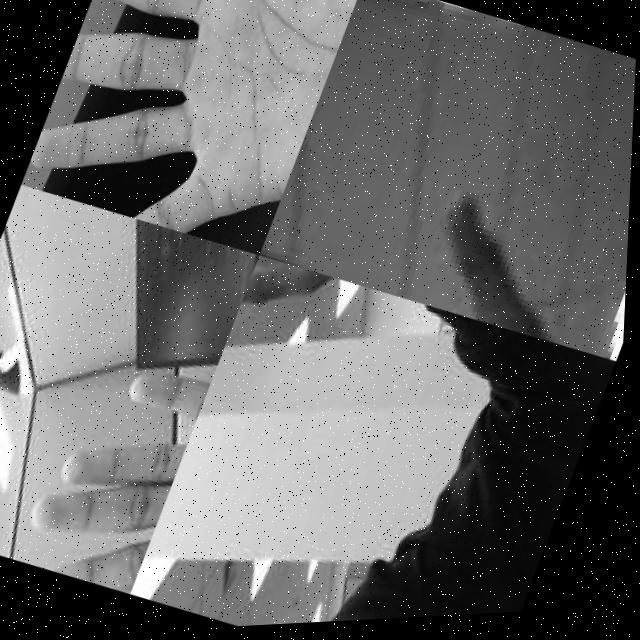hand: (256, 132, 634, 383), (19, 0, 364, 268), (13, 329, 220, 601), (224, 253, 379, 393)
